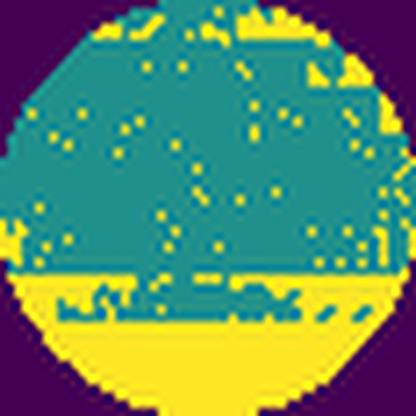Edge-Loc: (0, 268, 416, 416)
